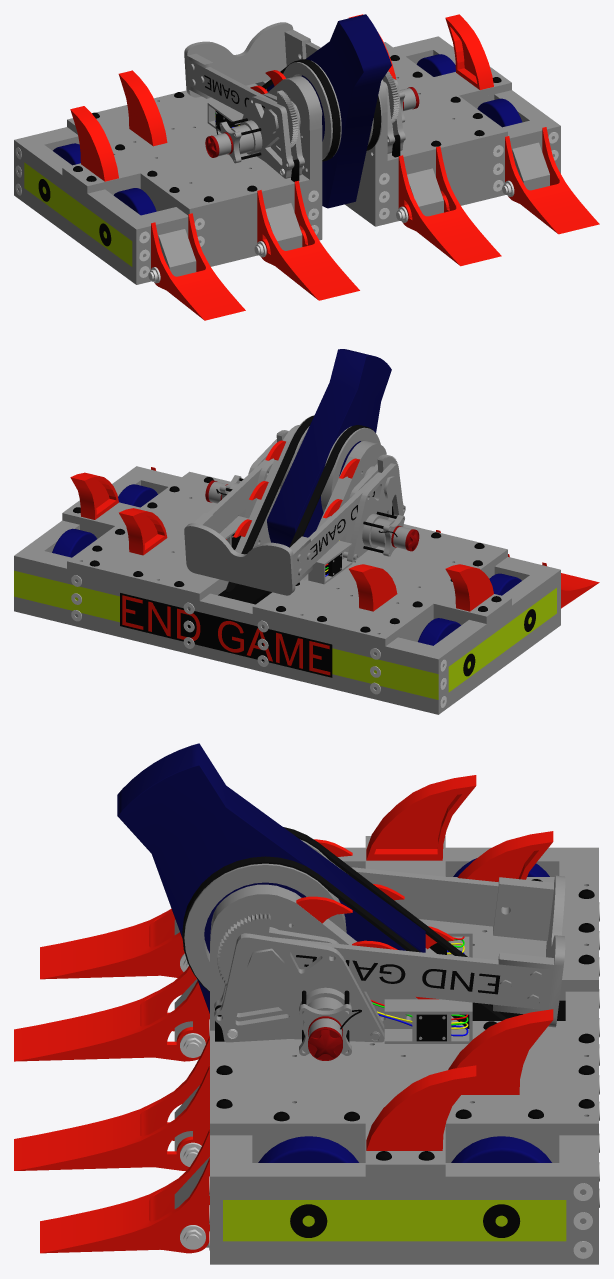
Rendered from EndGame2019export.fbx.
The picture shows the model from 3 angles, top to bottom: view 1: azimuth 30°, elevation 25°; view 2: azimuth 150°, elevation 25°; view 3: azimuth 270°, elevation 25°; orthographic projection. The views are drawn at different scales.
Visible parts, largest first — view 1: Box026, Box046, Cylinder131, Box052, Box017, Box047, Box043, Box044, Box045, Box048, Box062, Plane002 (+14 smaller); view 2: Box026, Box046, Box052, Box017, Cylinder131, Box039, Text004, Box062, Plane002, Plane024, Plane023, Plane017 (+9 smaller); view 3: Box026, Box017, Box052, Cylinder131, Box047, Box043, Box051, Box045, Box046, Box044, Box068, Plane024 (+17 smaller).
Boxes of the visible parts, x1=… form: Box026: x1=14, y1=36, x2=560, y2=284; Box046: x1=62, y1=90, x2=309, y2=215; Cylinder131: x1=267, y1=14, x2=391, y2=208; Box052: x1=184, y1=22, x2=399, y2=148; Box017: x1=255, y1=42, x2=511, y2=167; Box047: x1=398, y1=146, x2=501, y2=266; Box043: x1=257, y1=180, x2=359, y2=300; Box044: x1=151, y1=213, x2=245, y2=320; Box045: x1=505, y1=127, x2=599, y2=234; Box048: x1=267, y1=76, x2=322, y2=186; Box062: x1=241, y1=96, x2=294, y2=178; Plane002: x1=445, y1=14, x2=493, y2=89; Box026: x1=14, y1=466, x2=560, y2=714; Box046: x1=252, y1=524, x2=511, y2=646; Box052: x1=184, y1=430, x2=399, y2=595; Box017: x1=62, y1=471, x2=230, y2=600; Cylinder131: x1=267, y1=349, x2=391, y2=546; Box039: x1=120, y1=593, x2=332, y2=677; Text004: x1=122, y1=595, x2=330, y2=675; Box062: x1=347, y1=463, x2=405, y2=562; Plane002: x1=70, y1=472, x2=118, y2=519; Plane024: x1=445, y1=564, x2=493, y2=611; Plane023: x1=349, y1=564, x2=397, y2=611; Plane017: x1=119, y1=508, x2=167, y2=555; Box026: x1=210, y1=847, x2=598, y2=1264; Box017: x1=210, y1=1021, x2=598, y2=1176; Box052: x1=217, y1=867, x2=565, y2=1027; Cylinder131: x1=117, y1=743, x2=425, y2=1013; Box047: x1=14, y1=1036, x2=209, y2=1170; Box043: x1=14, y1=966, x2=209, y2=1061; Box051: x1=214, y1=933, x2=384, y2=1042; Box045: x1=40, y1=1129, x2=209, y2=1253; Box046: x1=365, y1=836, x2=598, y2=991; Box044: x1=40, y1=908, x2=184, y2=979; Box068: x1=210, y1=884, x2=464, y2=1034; Plane024: x1=366, y1=775, x2=476, y2=860.
Size of the model in its own units: 120 by 59.92 by 90.37.
